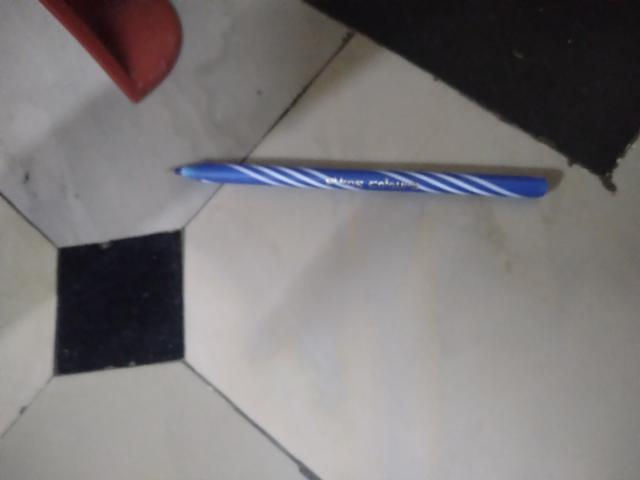PEN: (148, 73, 230, 479)
